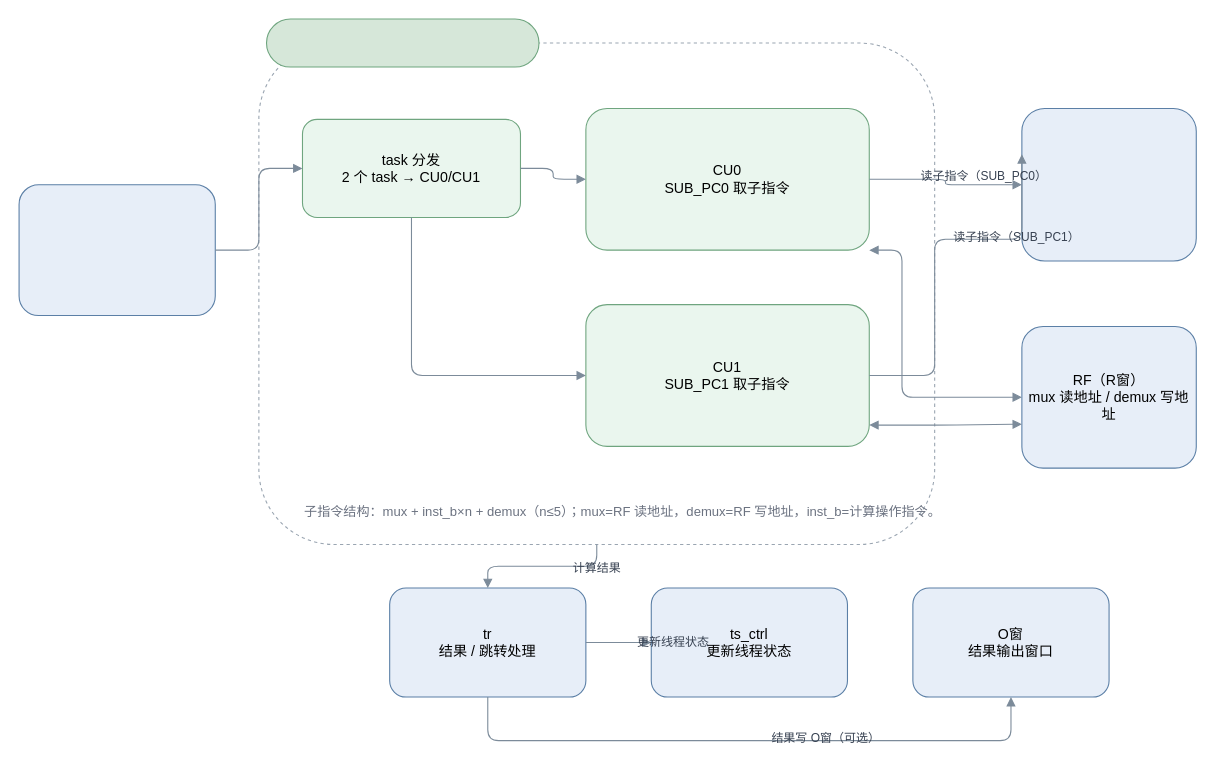
This 1215x768 diagram has some shape labels left out. Here are the shapes that lost their labels. From the top down, the centre of each, then its label:
At [402,42]: "EU · 计算单元（2×CU）".
At [1108,184]: "I_BUF_B 子指令缓存".
At [116,250]: "burst_sch （i/v_burst）".
